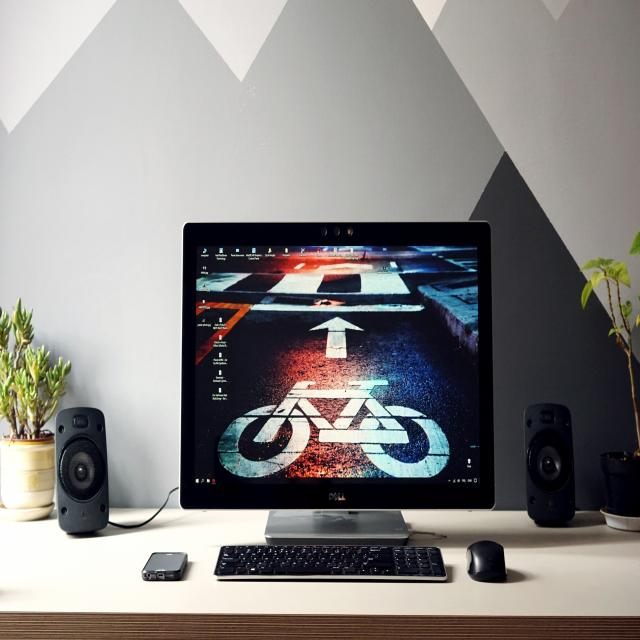computer: (184, 212, 482, 594)
phone: (144, 525, 197, 608)
